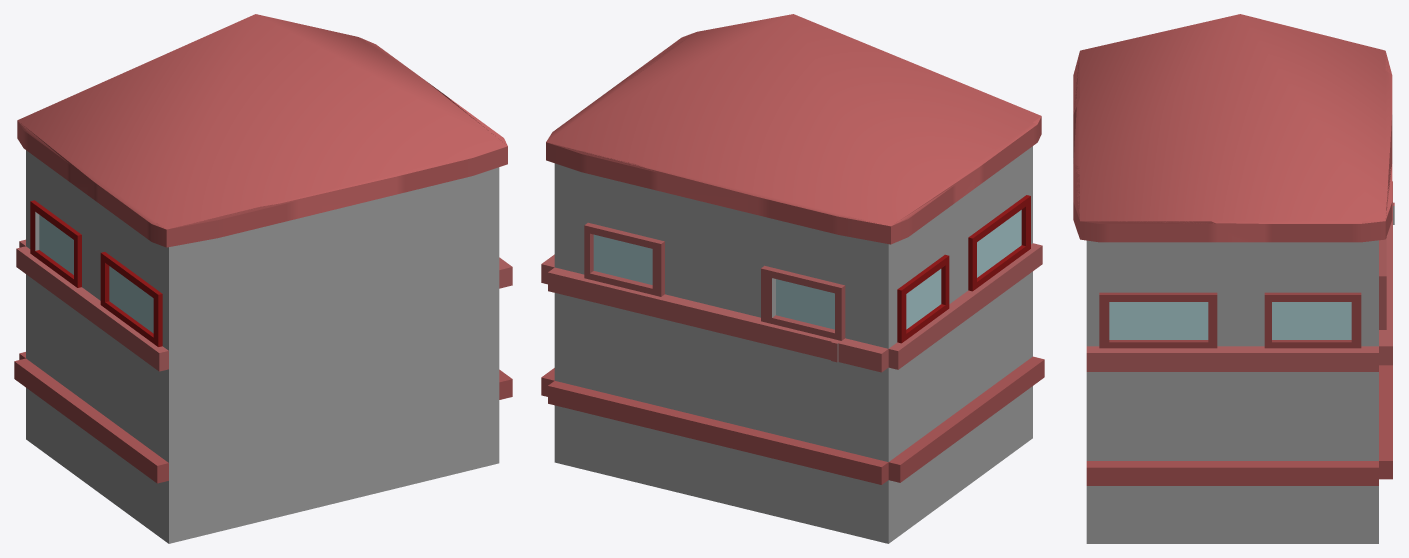
File: buildin 1 yo.fbx
3 renders of one model, left to right at view 1: azimuth 30°, elevation 25°; view 2: azimuth 150°, elevation 25°; view 3: azimuth 270°, elevation 25°, orthographic. The views are drawn at different scales.
Visible parts, largest first — view 1: pCube1; view 2: pCube1; view 3: pCube1.
Boxes of the visible parts, x1,y1,x2,y2 form: pCube1: (14,14,512,543); pCube1: (541,14,1044,543); pCube1: (1073,14,1394,543).
Bounding box in the file's own units: 849 × 994 × 649.
